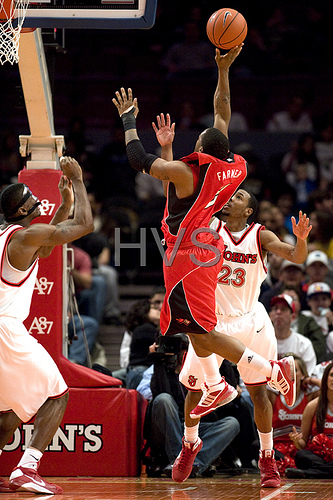basketball: (205, 7, 248, 49)
